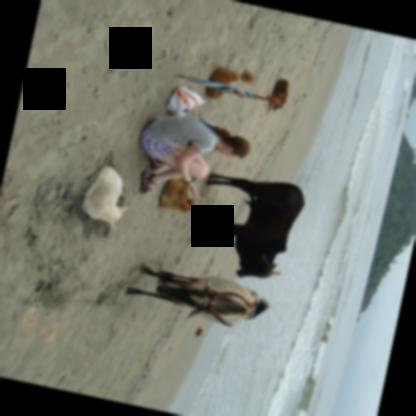handbag: (165, 86, 203, 116)
